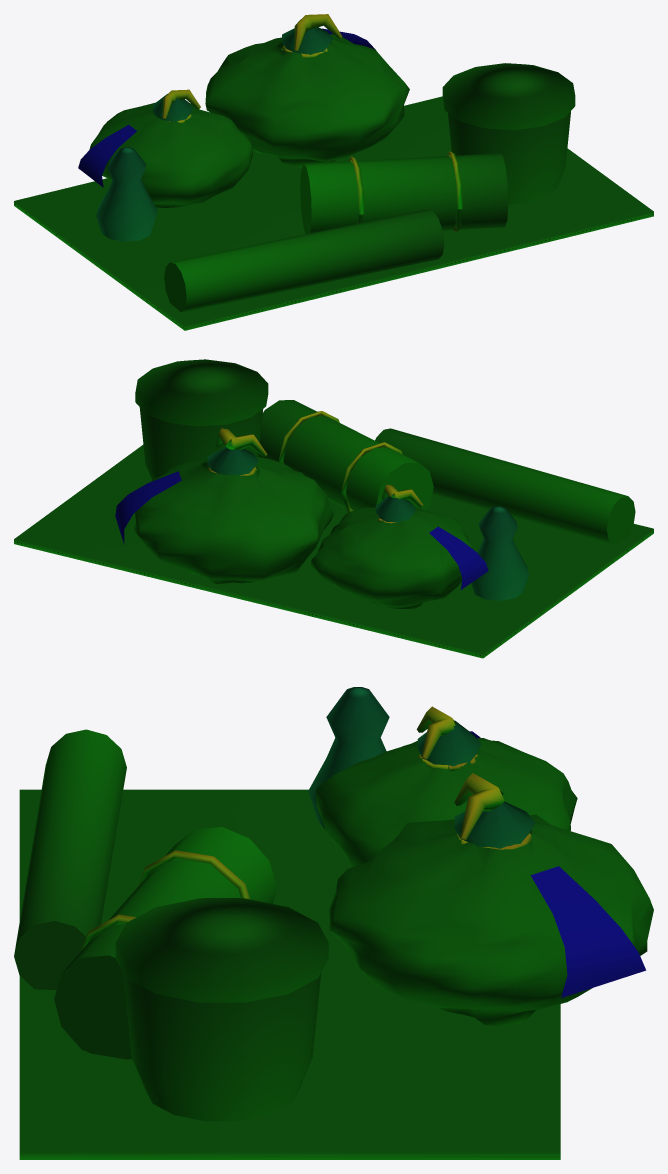
The model's file is passenger_bundles.glb.
3 views of the same model, one above another, from view 1: azimuth 30°, elevation 25°; view 2: azimuth 150°, elevation 25°; view 3: azimuth 270°, elevation 25° (orthographic). The views are drawn at different scales.
Parts seen in each view (by area): view 1: passenger_bundles; view 2: passenger_bundles; view 3: passenger_bundles.
Boxes of the visible parts, x1=… form: passenger_bundles: x1=14, y1=14, x2=653, y2=330; passenger_bundles: x1=14, y1=359, x2=653, y2=658; passenger_bundles: x1=14, y1=687, x2=653, y2=1159.
Size of what is drawn, in the model's own units: 1.89 by 0.5451 by 1.41.
